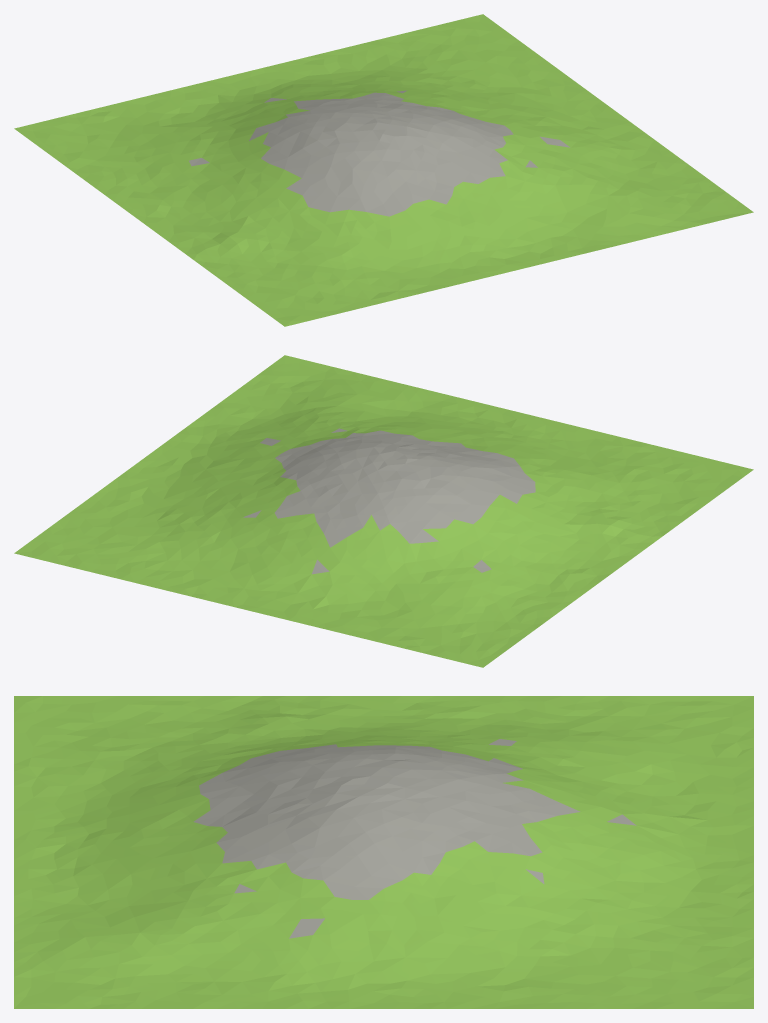
The model's file is terrain_l_b_08.glb.
3 views of the same model, one above another, from view 1: azimuth 30°, elevation 25°; view 2: azimuth 150°, elevation 25°; view 3: azimuth 270°, elevation 25° (orthographic). The views are drawn at different scales.
Parts seen in each view (by area): view 1: CPT_Terrain_L_b_08; view 2: CPT_Terrain_L_b_08; view 3: CPT_Terrain_L_b_08.
Part boxes in pixels (left/top/right/bottom): CPT_Terrain_L_b_08: left=14, top=14, right=753, bottom=326; CPT_Terrain_L_b_08: left=14, top=355, right=753, bottom=667; CPT_Terrain_L_b_08: left=14, top=696, right=753, bottom=1008.
Bounding box in the file's own units: 100 × 9.94 × 100.
1 material, 1 textured.
